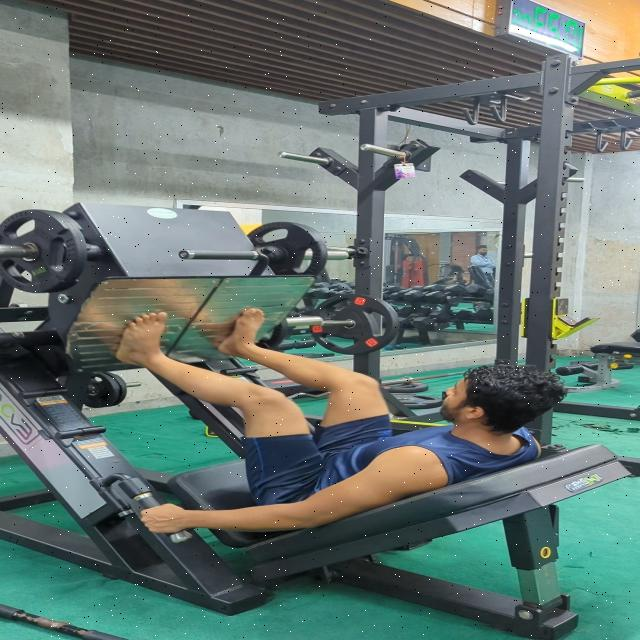Normal_LegPress: (104, 302, 575, 540)
